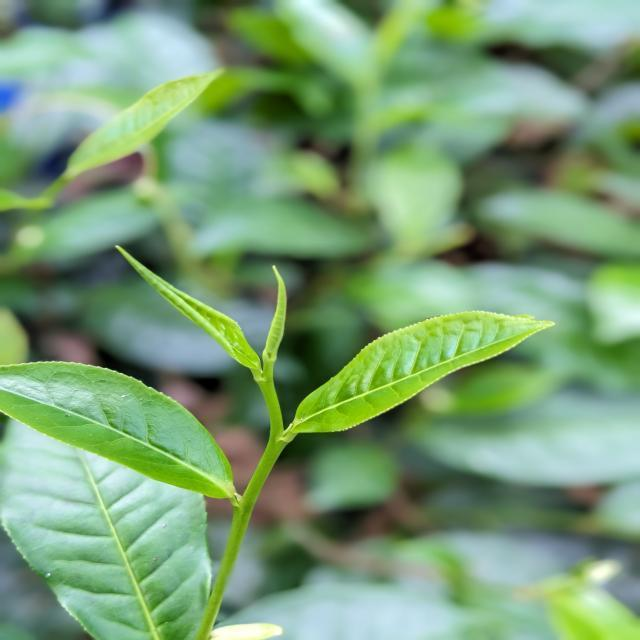Stem: (257, 379, 277, 401)
